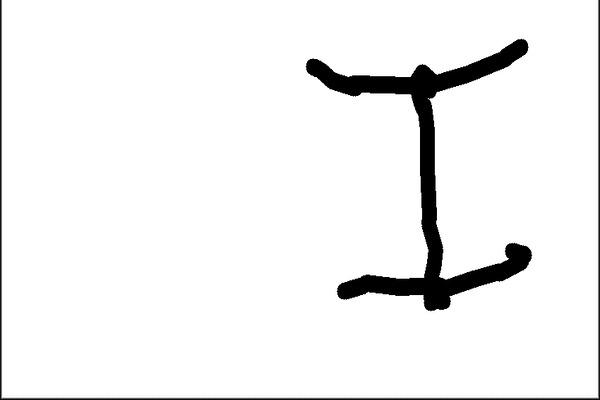i: (290, 28, 553, 316)
